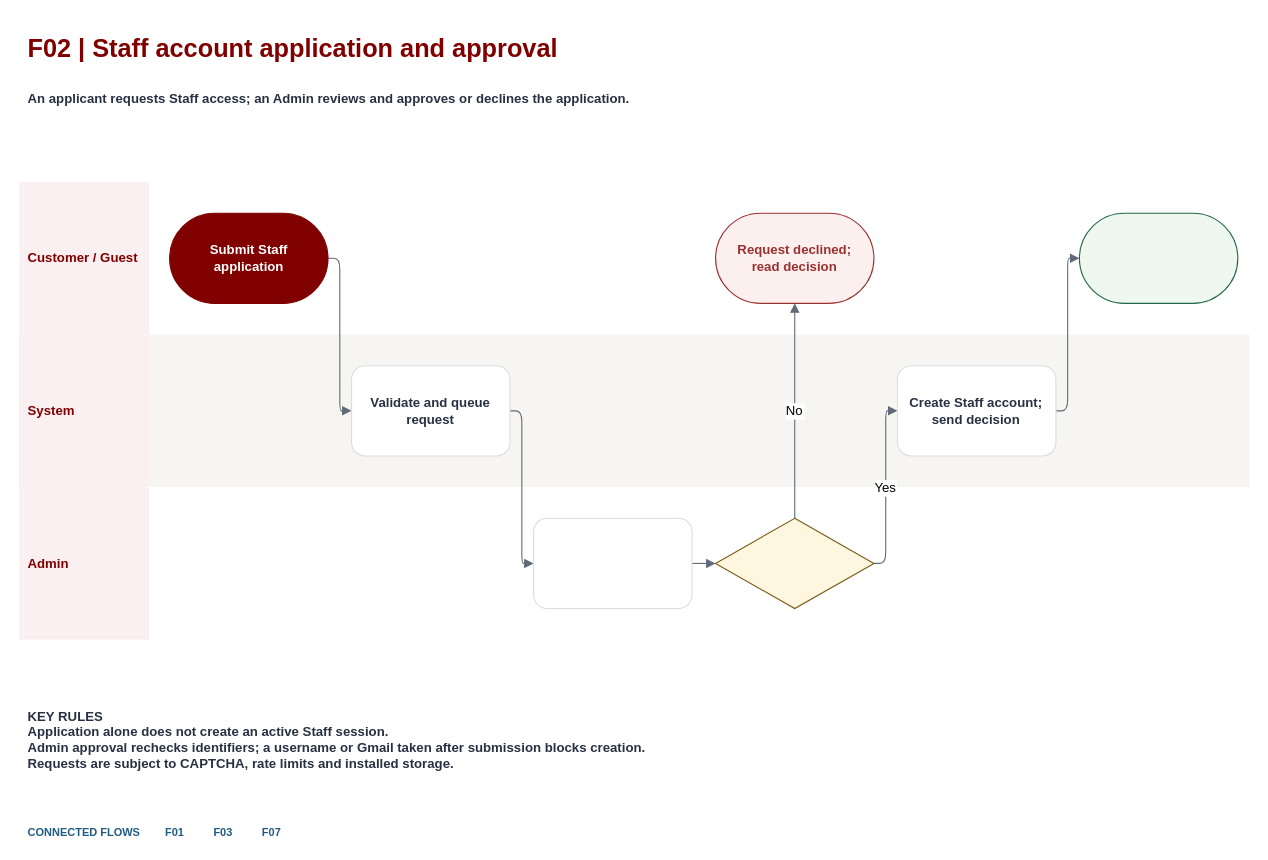
Image size: 1268x860. Some labels were removed from this diagram. The box of each missing label's shape, as (x1, y1, x2, y2) in pixels:
Approve request?: (714, 517, 874, 609)
Review applicant: (533, 517, 692, 609)
Sign in with approved account: (1078, 212, 1238, 303)
